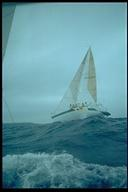sailboat: (47, 45, 113, 125)
sky: (17, 4, 126, 46)
water: (6, 125, 126, 187)
